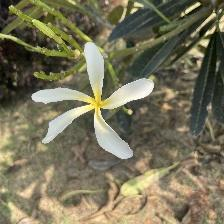champaka: (32, 43, 157, 163)
